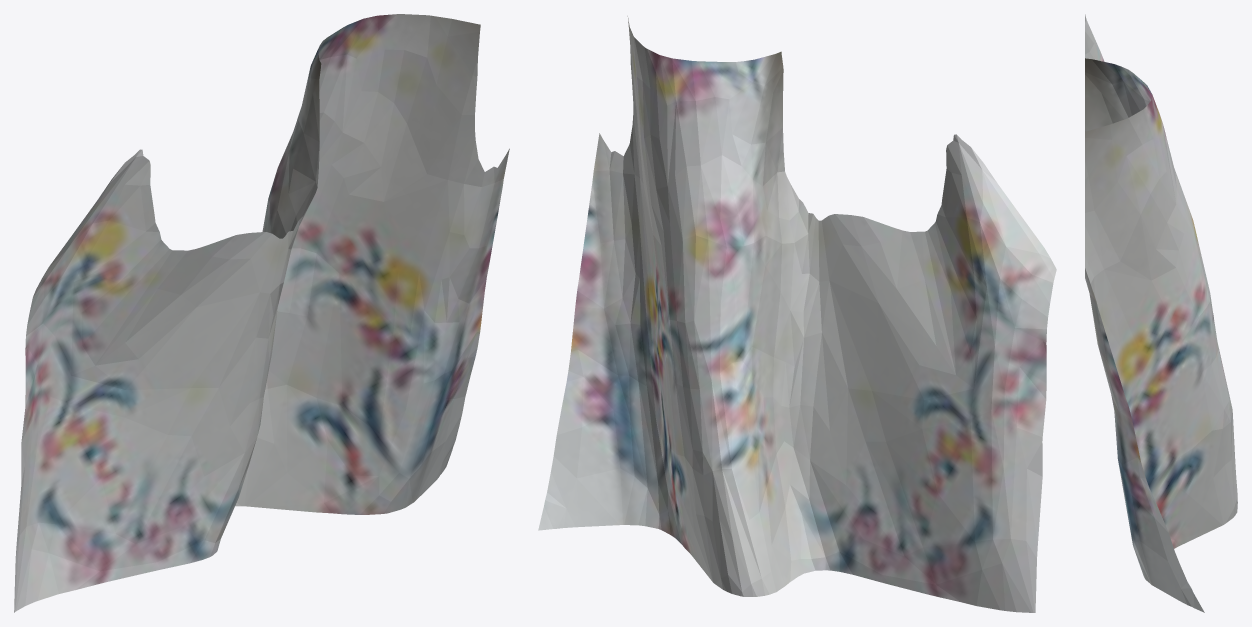
The picture shows the model from 3 angles, left to right: view 1: azimuth 30°, elevation 25°; view 2: azimuth 150°, elevation 25°; view 3: azimuth 270°, elevation 25°; orthographic projection. The views are drawn at different scales.
Visible parts, largest first — view 1: 091_W_Aya_100K_01; view 2: 091_W_Aya_100K_01; view 3: 091_W_Aya_100K_01.
Part boxes in pixels (x1,y1,x2,y2): 091_W_Aya_100K_01: (14, 14, 509, 612); 091_W_Aya_100K_01: (538, 16, 1056, 612); 091_W_Aya_100K_01: (1085, 14, 1237, 612).
Size of the model in its own units: 85.74 by 85.74 by 25.36.
1 material, 1 textured.
